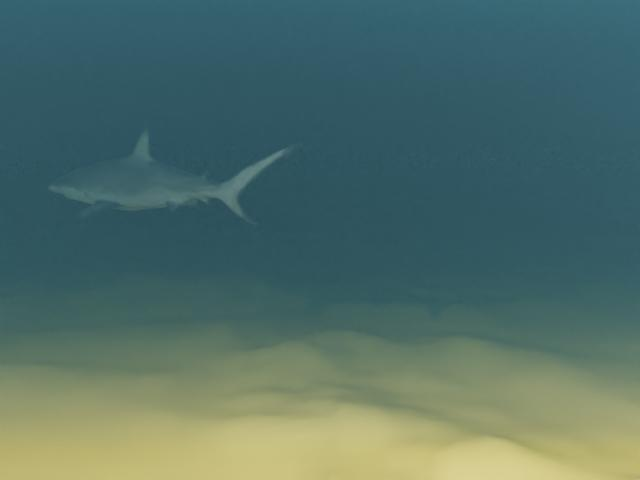Carribean Shark.001: (47, 126, 300, 225)
